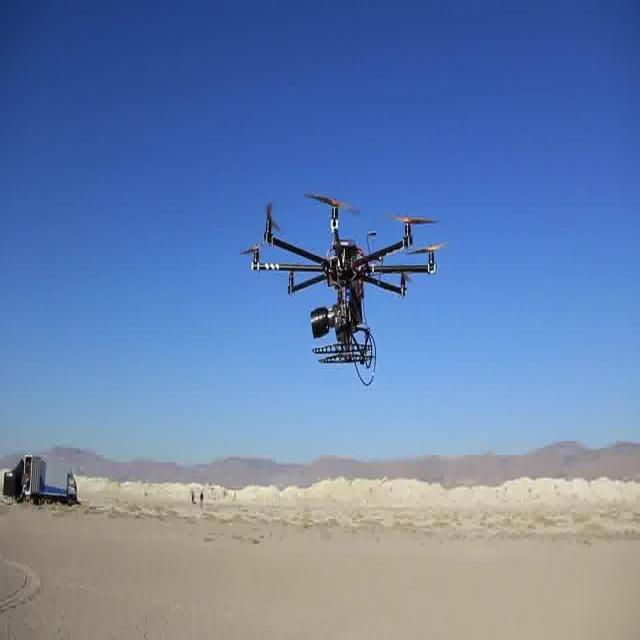drone: (244, 185, 444, 374)
